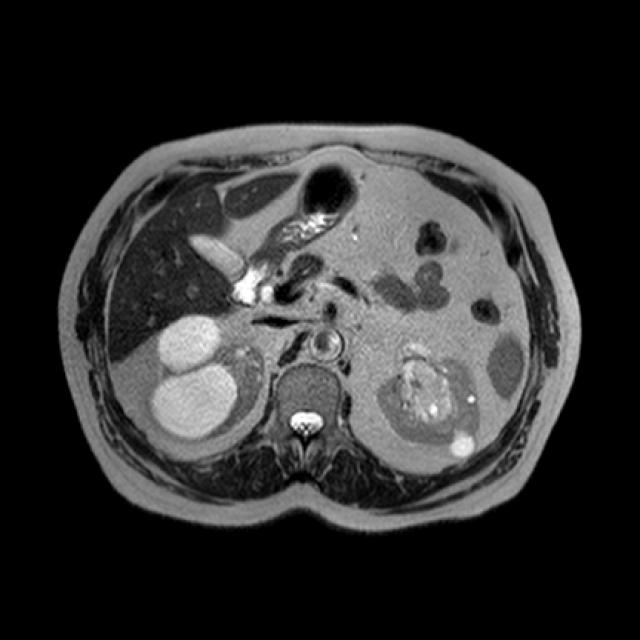sag: (149, 315, 267, 442)
sol: (382, 355, 482, 456)
